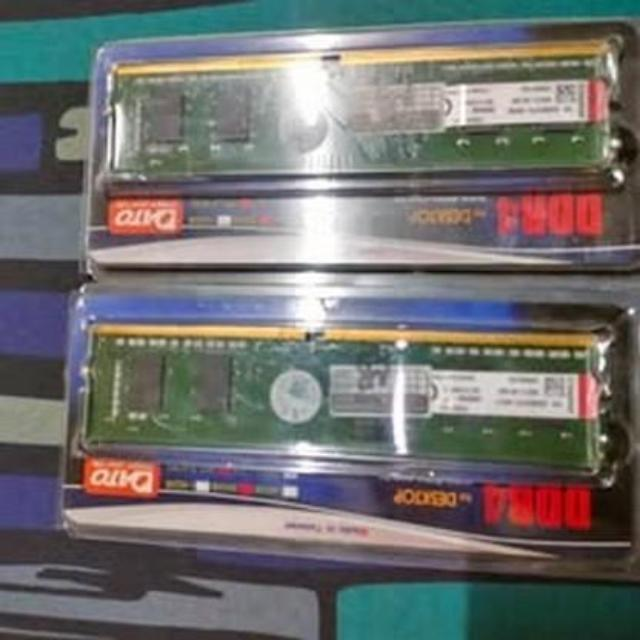RAM: (80, 318, 608, 472), (111, 41, 614, 196)
